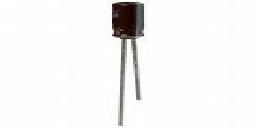Electrolytic Capacitor: (108, 1, 149, 128)
